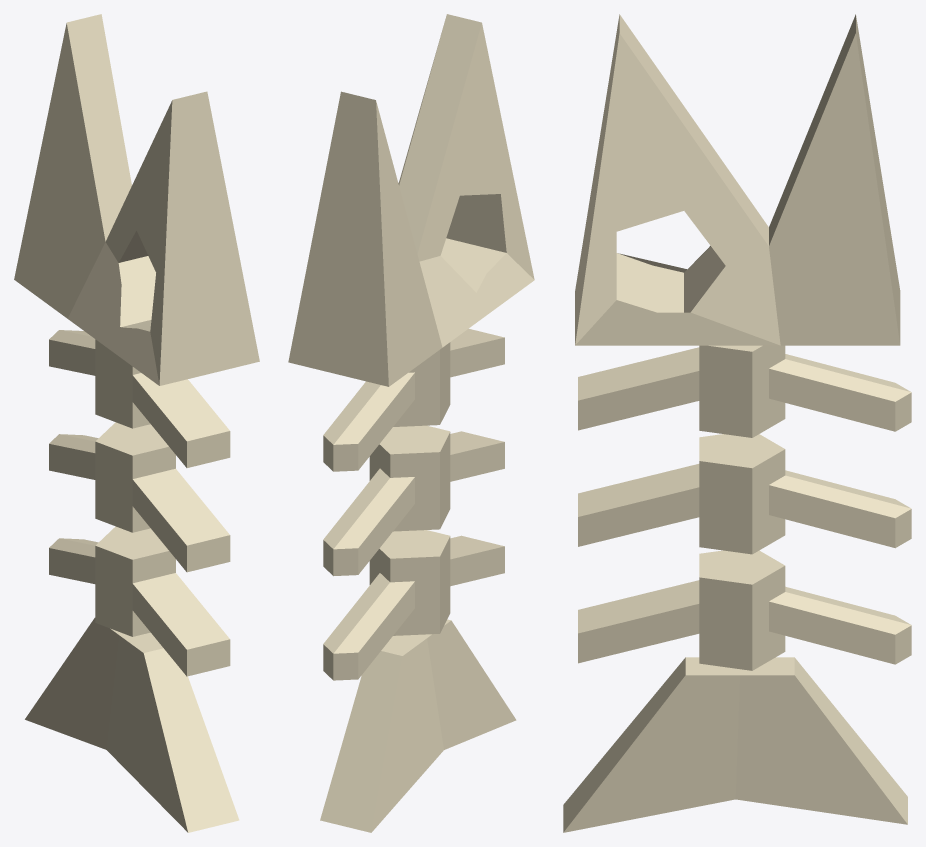
File: fish_bones.fbx
The picture shows the model from 3 angles, left to right: view 1: azimuth 30°, elevation 25°; view 2: azimuth 150°, elevation 25°; view 3: azimuth 270°, elevation 25°; orthographic projection. The views are drawn at different scales.
Visible parts, largest first — view 1: Cube, Cube.001, Cube.002; view 2: Cube, Cube.001, Cube.002; view 3: Cube, Cube.001, Cube.002.
Part boxes in pixels (<box>): Cube: <box>14,14,259,385</box>; Cube.001: <box>49,330,230,676</box>; Cube.002: <box>25,617,239,832</box>; Cube: <box>288,14,534,386</box>; Cube.001: <box>323,328,504,680</box>; Cube.002: <box>320,619,516,832</box>; Cube: <box>575,14,900,345</box>; Cube.001: <box>578,345,911,670</box>; Cube.002: <box>563,657,907,832</box>.
Size of the model in its own units: 25.61 by 174 by 68.93.
